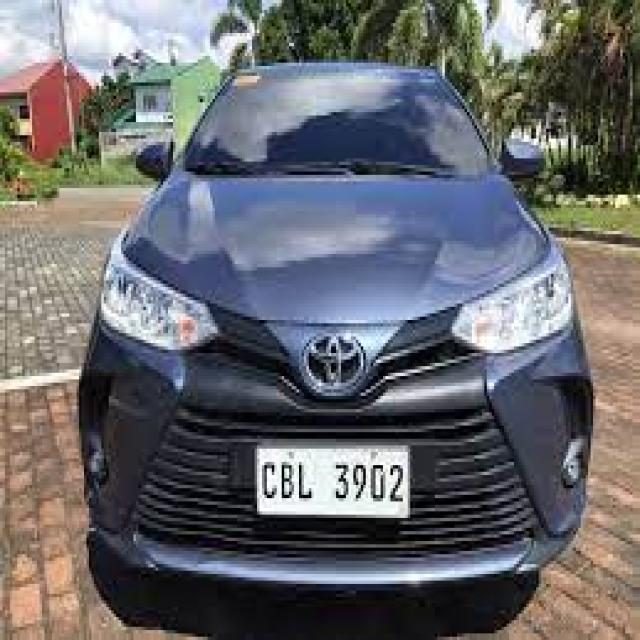number: (255, 445, 408, 518)
